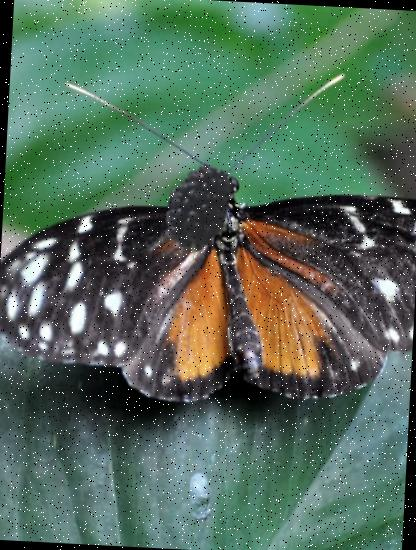Mulberry: (141, 158, 247, 264)
